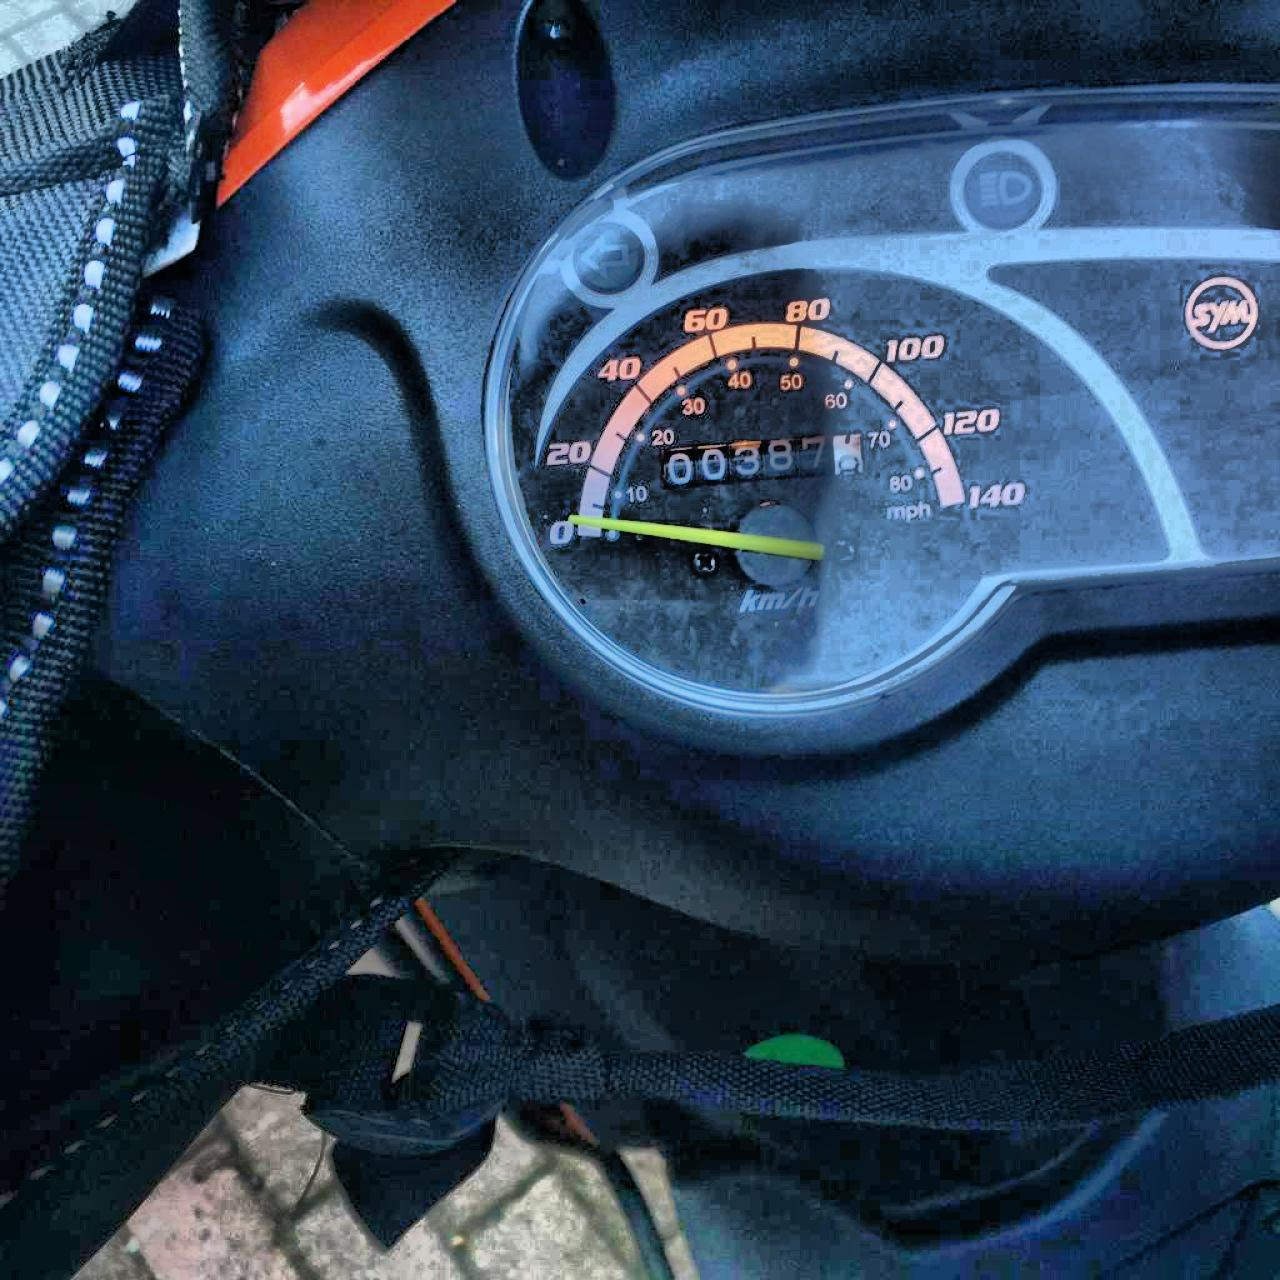0: (667, 451, 692, 484), (700, 448, 726, 478), (661, 428, 674, 443)
3: (734, 444, 758, 475)
7: (799, 435, 824, 468)
8: (767, 440, 791, 470), (836, 454, 860, 482)
odometer: (659, 428, 866, 491)
